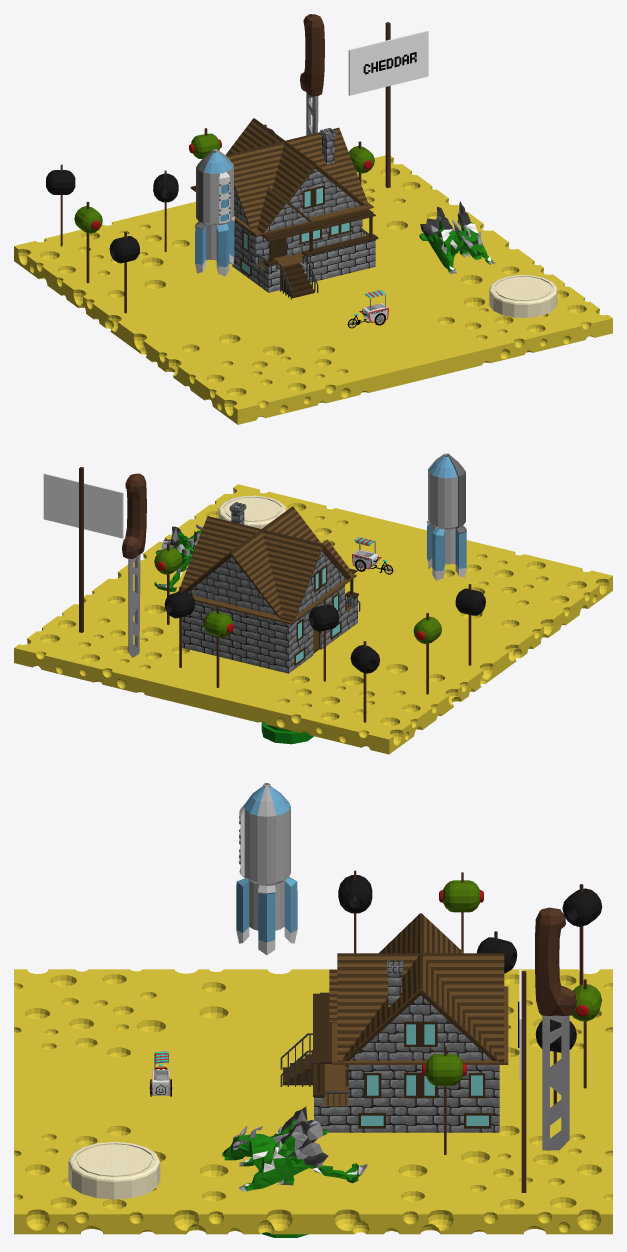
The picture shows the model from 3 angles, top to bottom: view 1: azimuth 30°, elevation 25°; view 2: azimuth 150°, elevation 25°; view 3: azimuth 270°, elevation 25°; orthographic projection. The views are drawn at different scales.
Parts seen in each view (by area): view 1: Cube.022, Cube.586, Cube.023, OBJRANDOM_ROCKETSHIP, Cylinder.016, ANIMAL_DRAGON, Cube.024, Sphere.017, Sphere.016, Sphere.018, Sphere.020, VEHICLES_SNOWBAL_BIKE (+2 smaller); view 2: Cube.022, Cube.586, Cube.023, OBJRANDOM_ROCKETSHIP, Cube.024, Cylinder.016, ANIMAL_DRAGON, Sphere.017, Sphere.022, Sphere.016, Sphere.021, Sphere.020 (+4 smaller); view 3: Cube.022, Cube.586, OBJRANDOM_ROCKETSHIP, Cube.024, ANIMAL_DRAGON, Cylinder.016, Cube.023, Sphere.016, Sphere.019, Sphere.018, Sphere.017, Sphere.022 (+3 smaller).
Part boxes in pixels (x1,y1,x2,y2): Cube.022: (14, 155, 612, 424); Cube.586: (190, 118, 378, 299); Cube.023: (348, 22, 428, 188); OBJRANDOM_ROCKETSHIP: (195, 149, 234, 276); Cylinder.016: (489, 275, 557, 317); ANIMAL_DRAGON: (419, 201, 495, 273); Cube.024: (300, 14, 324, 135); Sphere.017: (109, 231, 139, 313); Sphere.016: (46, 164, 75, 246); Sphere.018: (74, 201, 102, 283); Sphere.020: (153, 170, 178, 251); VEHICLES_SNOWBAL_BIKE: (347, 289, 388, 328); Cube.022: (14, 484, 612, 754); Cube.586: (177, 502, 360, 673); Cube.023: (43, 467, 123, 632); OBJRANDOM_ROCKETSHIP: (426, 453, 466, 580); Cube.024: (122, 473, 146, 657); Cylinder.016: (218, 495, 286, 528); ANIMAL_DRAGON: (154, 524, 202, 591); Sphere.017: (455, 584, 485, 665); Sphere.022: (203, 606, 233, 687); Sphere.016: (350, 641, 379, 722); Sphere.021: (164, 586, 195, 667); Sphere.020: (309, 600, 339, 681); Cube.022: (14, 969, 612, 1234); Cube.586: (280, 913, 508, 1132); OBJRANDOM_ROCKETSHIP: (236, 783, 297, 955); Cube.024: (535, 907, 576, 1150); ANIMAL_DRAGON: (222, 1106, 367, 1191); Cylinder.016: (68, 1141, 160, 1199); Cube.023: (518, 967, 526, 1192); Sphere.016: (562, 884, 602, 985); Sphere.019: (422, 1045, 466, 1154); Sphere.018: (439, 872, 483, 951); Sphere.017: (338, 870, 372, 953); Sphere.022: (572, 979, 601, 1088).
Size of the model in its own units: 3917 by 2590 by 4000.
34 materials, 4 textured.
